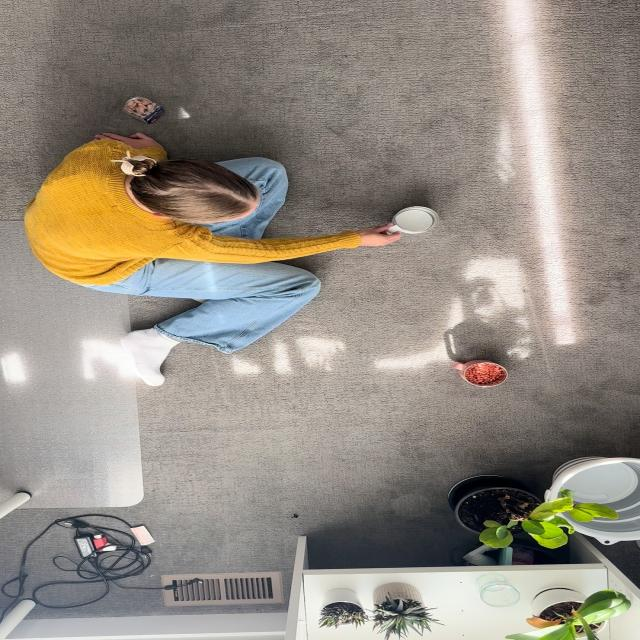IBC: (452, 359, 505, 387), (387, 206, 439, 234)
